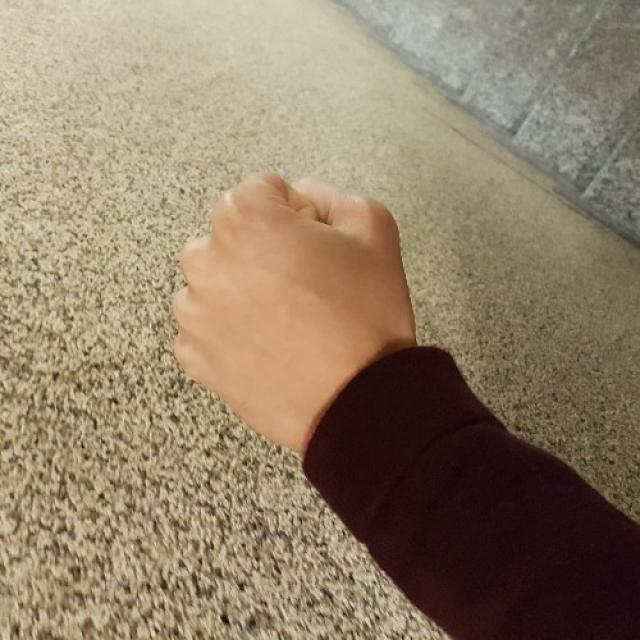rock: (168, 171, 416, 434)
